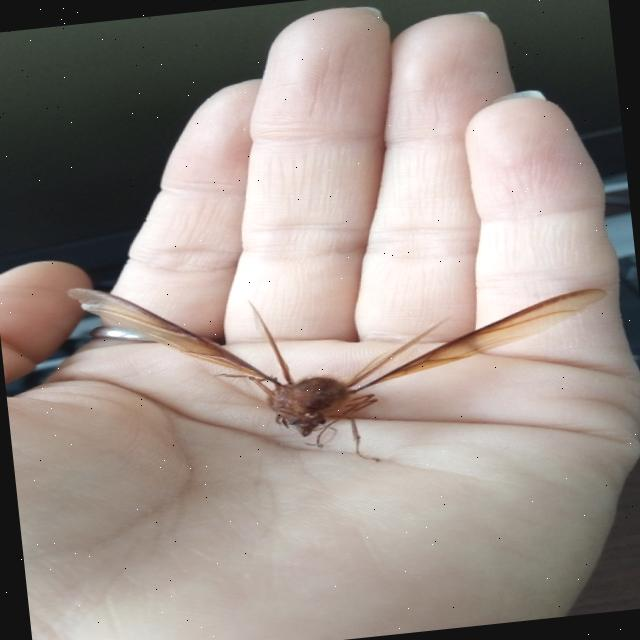Alive-Male-Alate: (66, 231, 624, 493)
